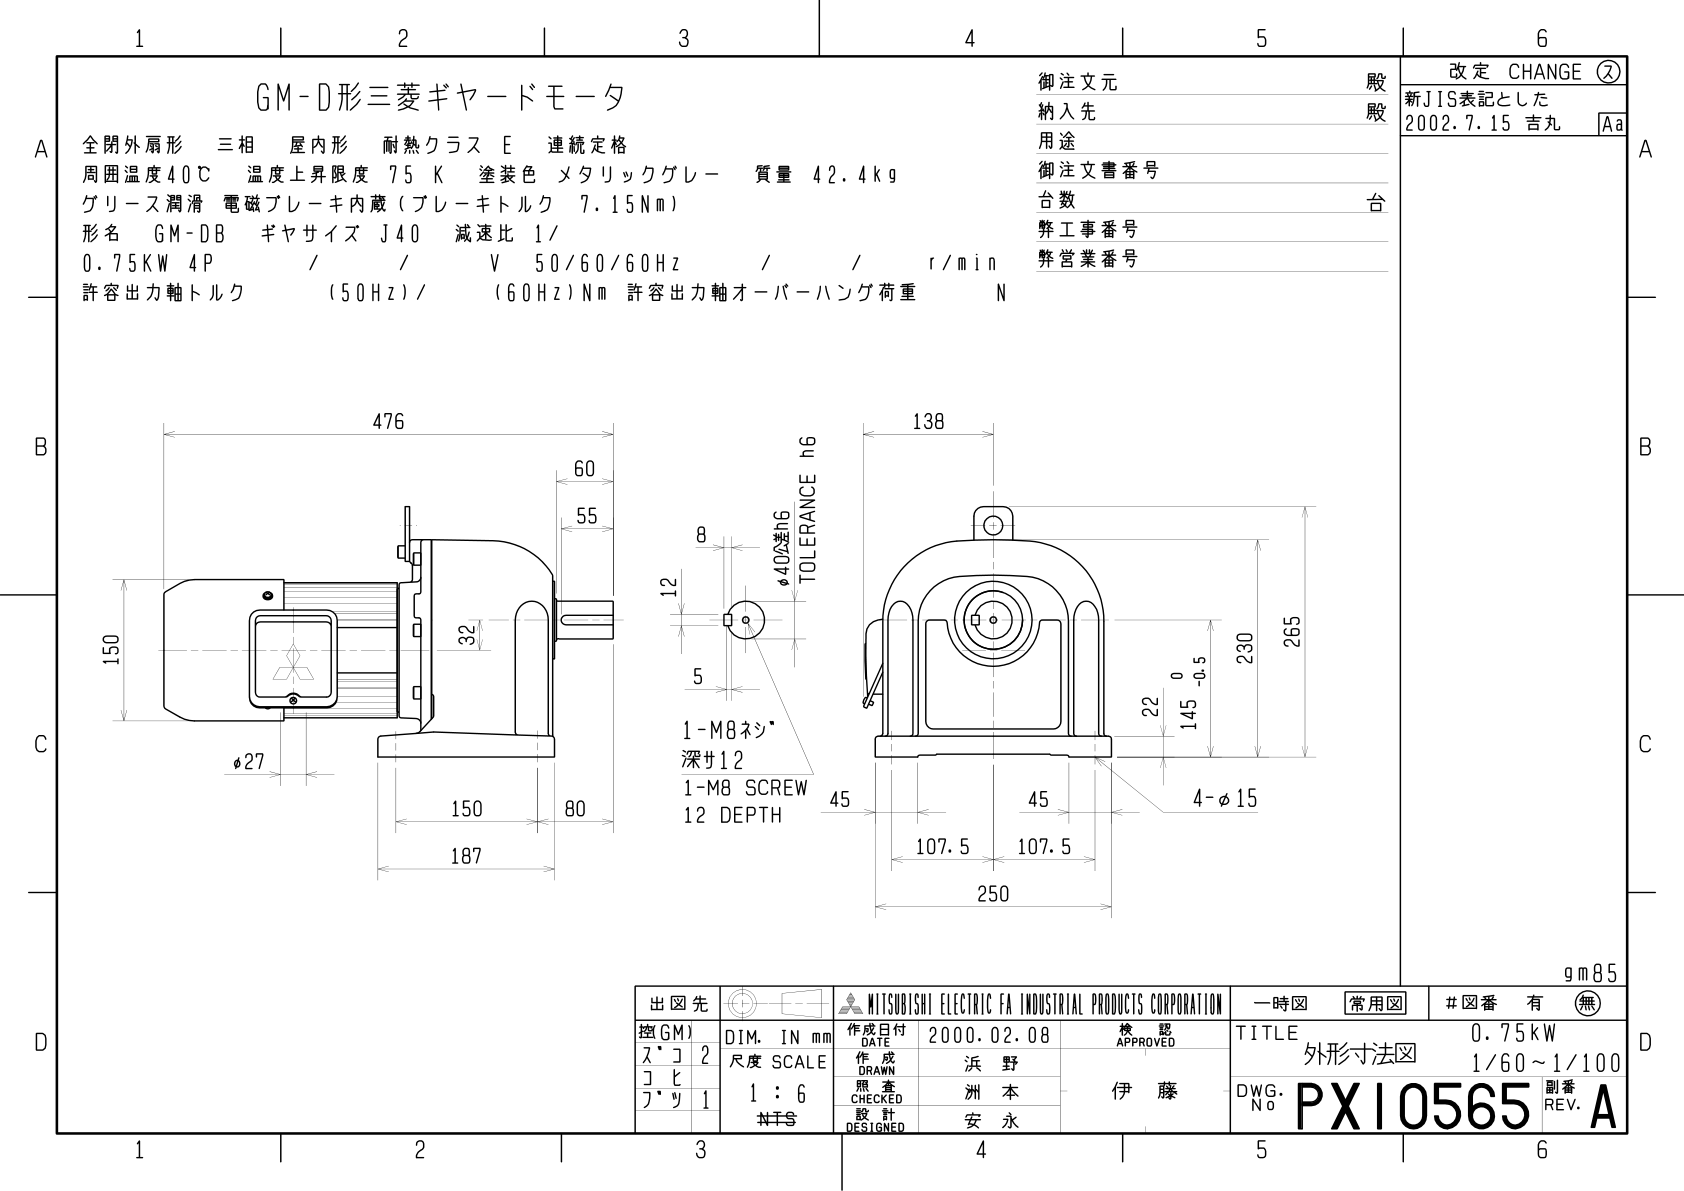GM_D_屋内＿三相_脚: (79, 363, 1370, 938)
